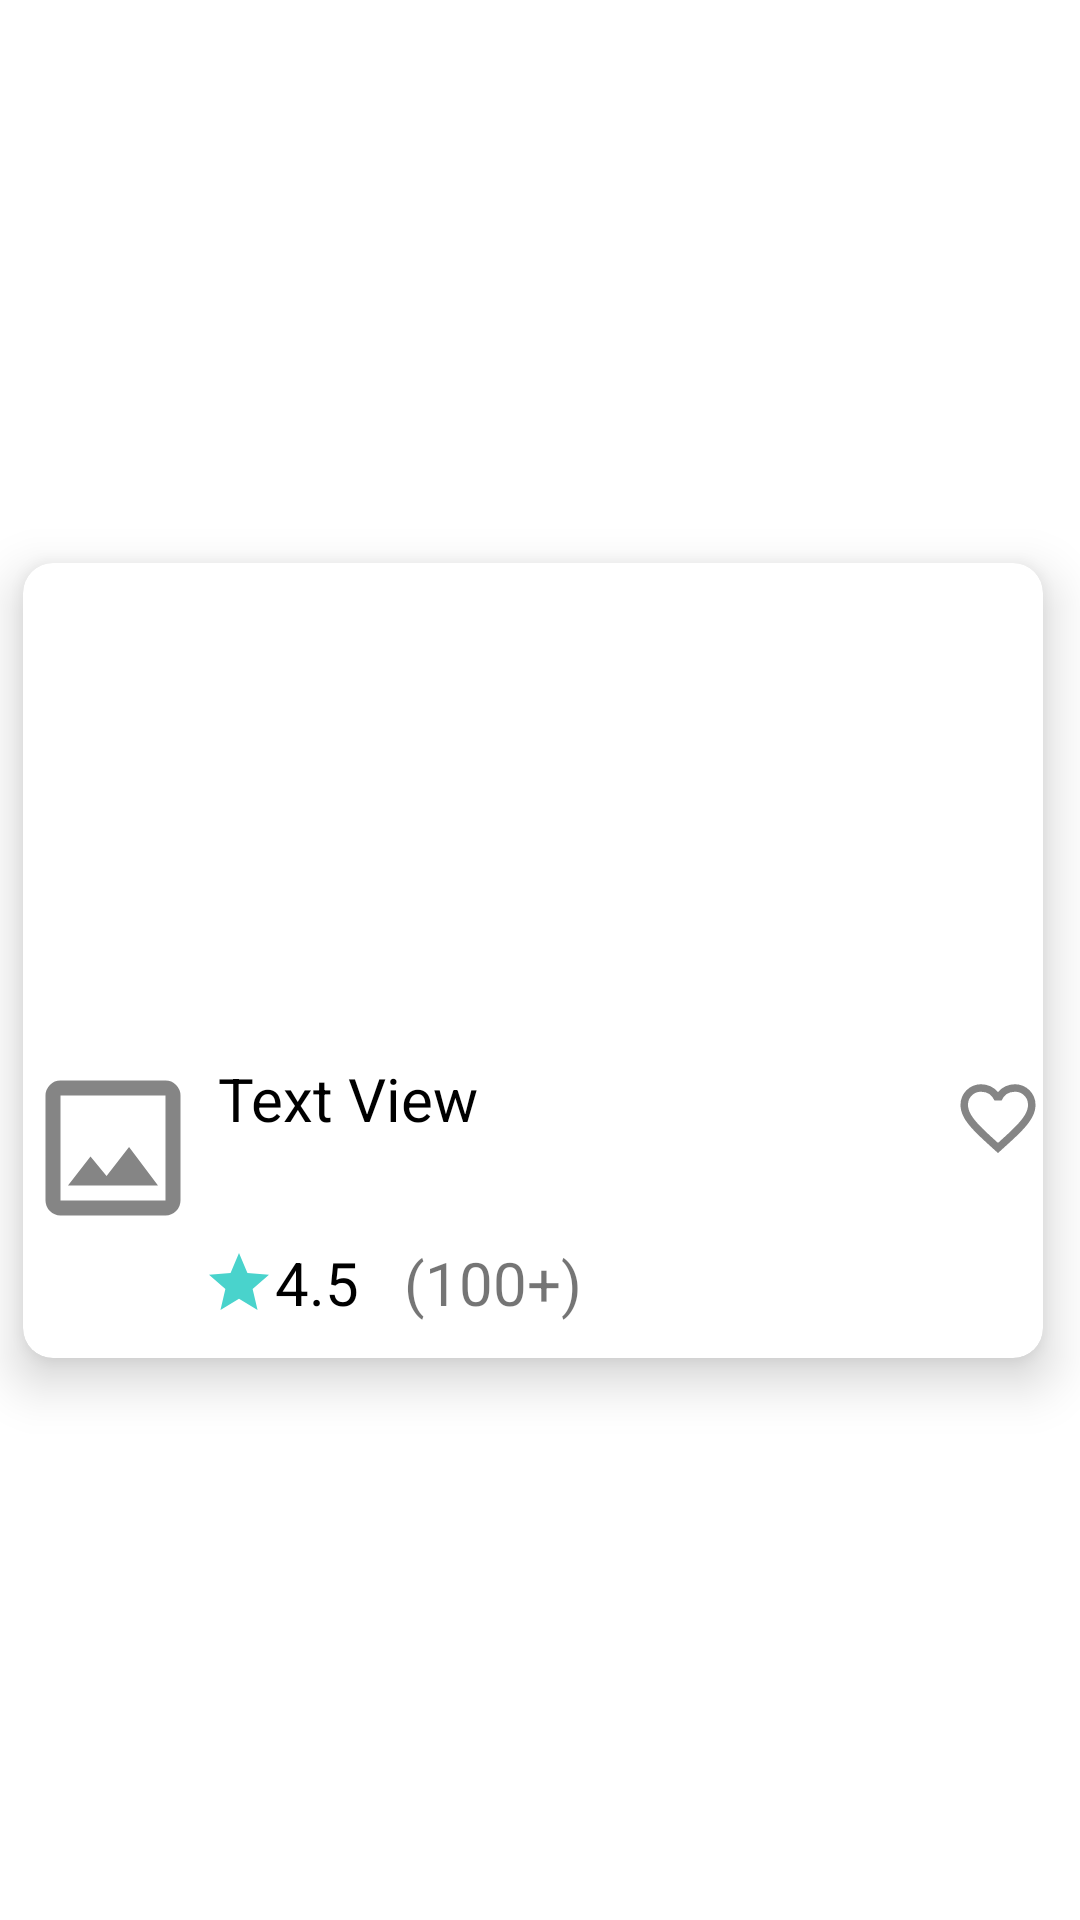

Point at icon controls on the screen. Image size 1080px×1920px, points as (x,y).
favorite: (998,1118)
